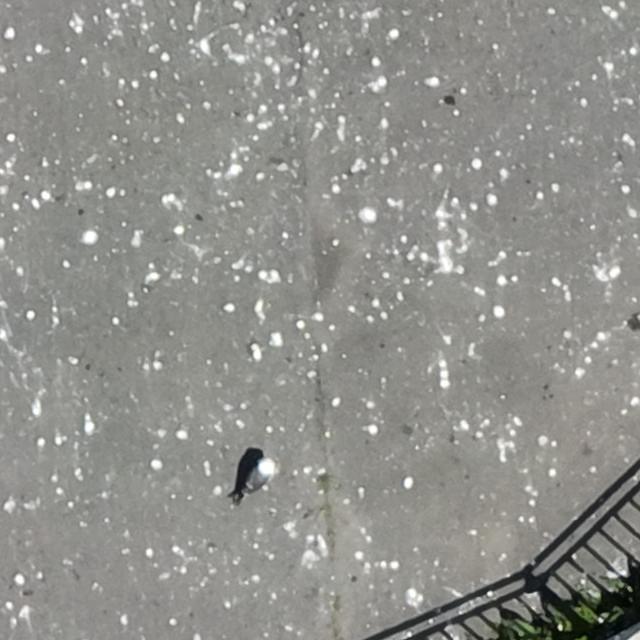umineko: (248, 461, 270, 490)
